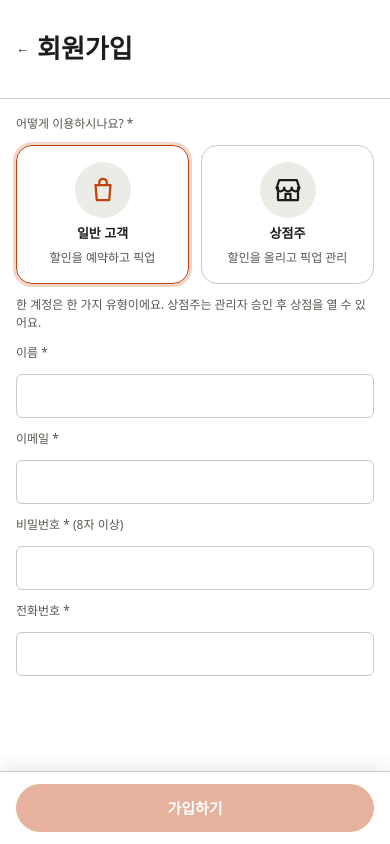
Test case: SignupPage (A2) › 400 VALIDATION_ERROR면 폼 오류 자리에 서버 문구를 보인다
This screenshot has width=390, height=844.
Expected: the heading "회원가입" is shown, [37,29,133,68]
Step 1. Type "홍길동" into the field labelled "이름 *" → (195, 396), box [16,374,374,418]
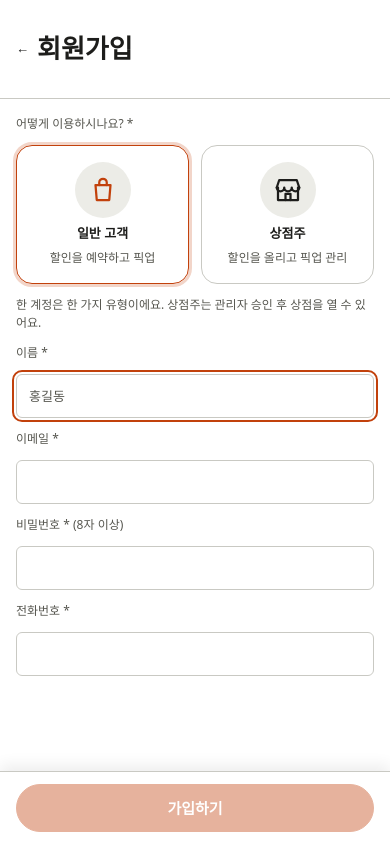
Step 2. Type "a@b.c" into the field labelled "이메일 *" → (195, 482), box [16,460,374,504]
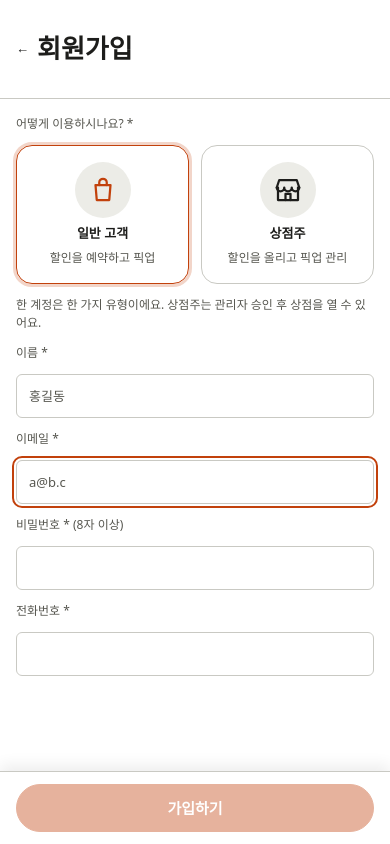
Step 3. Type "pw123456" into the password field labelled "비밀번호 * (8자 이상)" → (195, 568), box [16,546,374,590]
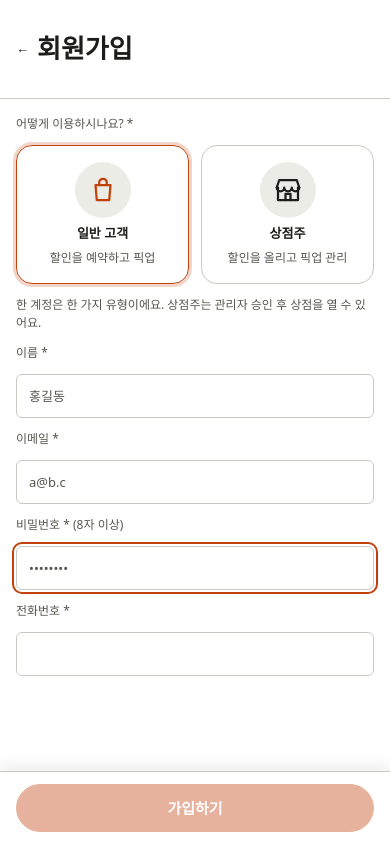
Step 4. Type "010-1" into the field labelled "전화번호 *" → (195, 654), box [16,632,374,676]
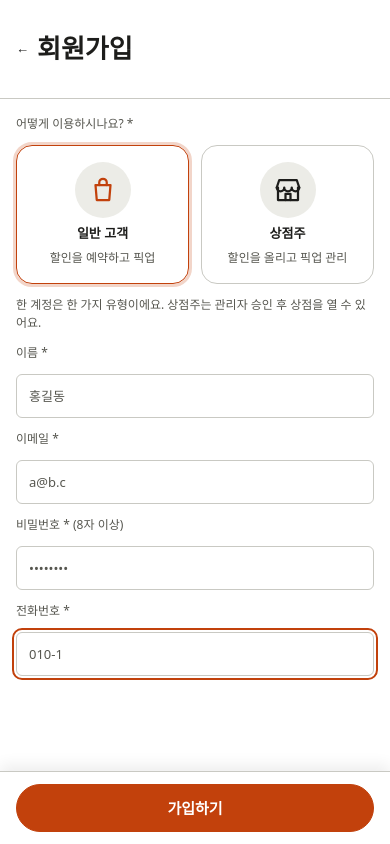
Step 5. Click the button "가입하기" → (195, 808), box [16,784,374,832]
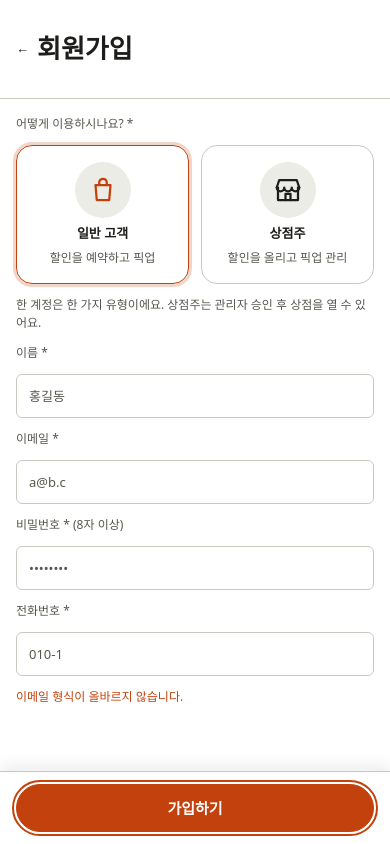
Expected: the message reads "이메일 형식이 올바르지 않습니다.", [16,688,183,705]
